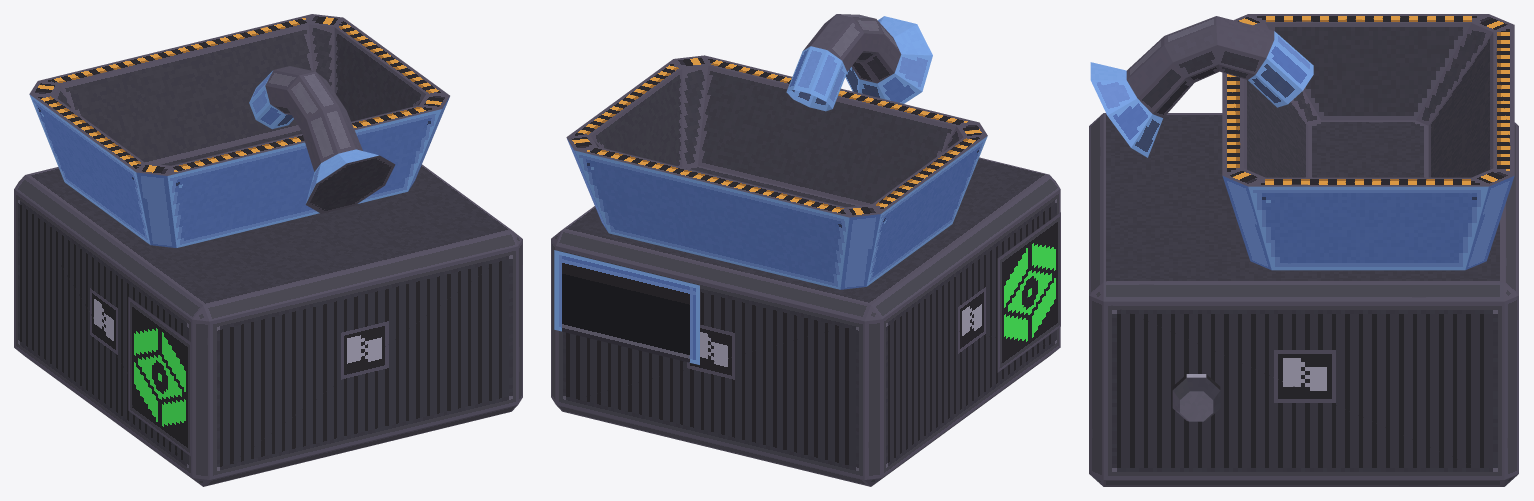
Rendered from scrapper.glb.
The picture shows the model from 3 angles, left to right: view 1: azimuth 30°, elevation 25°; view 2: azimuth 150°, elevation 25°; view 3: azimuth 270°, elevation 25°; orthographic projection. The views are drawn at different scales.
Visible parts, largest first — view 1: scrapper_body; view 2: scrapper_body; view 3: scrapper_body, scrapper_roller_a.
Part boxes in pixels (<box>): scrapper_body: <box>14,14,522,486</box>; scrapper_body: <box>551,14,1060,486</box>; scrapper_body: <box>1089,14,1518,486</box>; scrapper_roller_a: <box>1172,374,1220,421</box>.
Size of the model in its own units: 2.12 by 1.96 by 2.
1 material, 1 textured.
